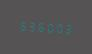six: (17, 18, 25, 32), (36, 19, 44, 33)
three: (26, 18, 34, 33), (63, 21, 71, 35)
zero: (45, 19, 53, 34), (54, 20, 62, 35)
